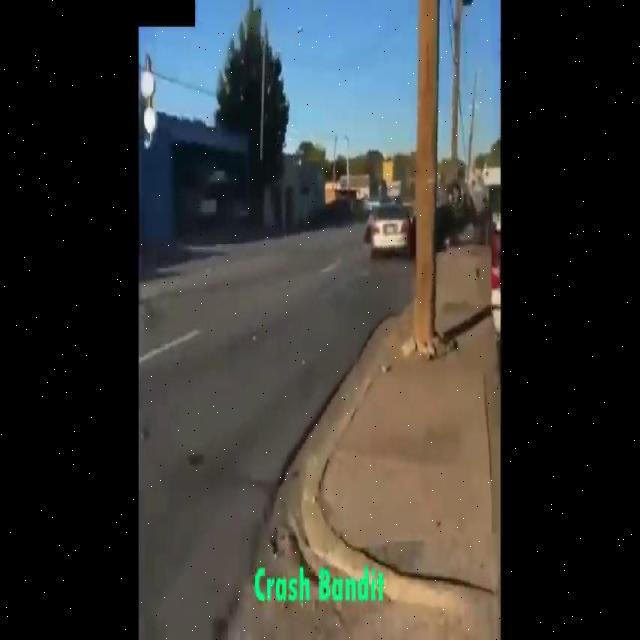severe: (404, 176, 486, 260)
